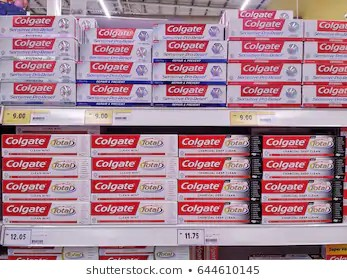colgate-medium: (90, 133, 179, 159), (93, 197, 179, 223), (1, 133, 90, 158), (179, 134, 261, 159), (2, 199, 95, 221), (1, 178, 93, 200), (229, 81, 302, 108), (262, 177, 344, 201), (227, 17, 308, 41), (259, 158, 343, 181), (266, 135, 345, 159), (91, 157, 181, 178), (153, 82, 227, 107), (178, 201, 262, 223), (178, 177, 262, 199), (80, 82, 153, 107), (1, 81, 77, 105), (229, 39, 306, 62), (1, 35, 78, 58), (261, 201, 343, 222), (93, 178, 179, 197), (1, 160, 91, 178), (1, 61, 77, 82), (179, 158, 261, 177), (78, 58, 155, 78), (1, 13, 74, 34), (229, 62, 301, 83), (82, 24, 152, 43), (151, 63, 229, 80), (303, 82, 347, 108), (79, 43, 154, 58), (154, 22, 224, 37), (220, 8, 294, 21), (304, 61, 347, 81), (305, 41, 347, 59), (303, 21, 347, 36)
